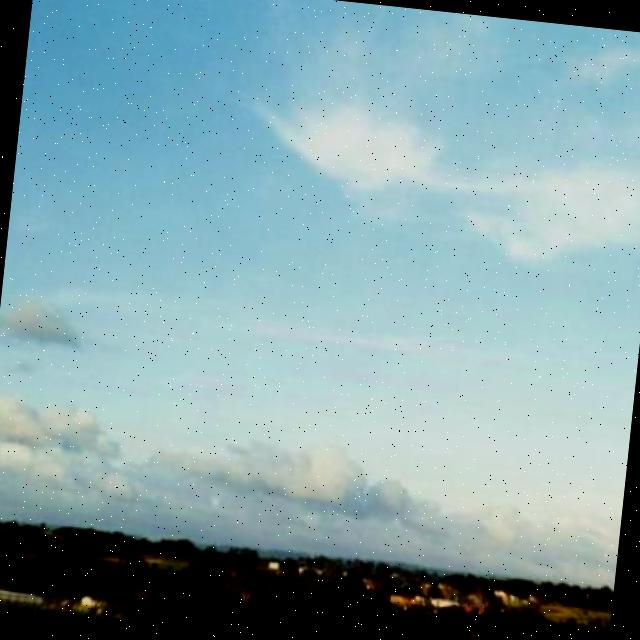Sc: (1, 1, 640, 556)
